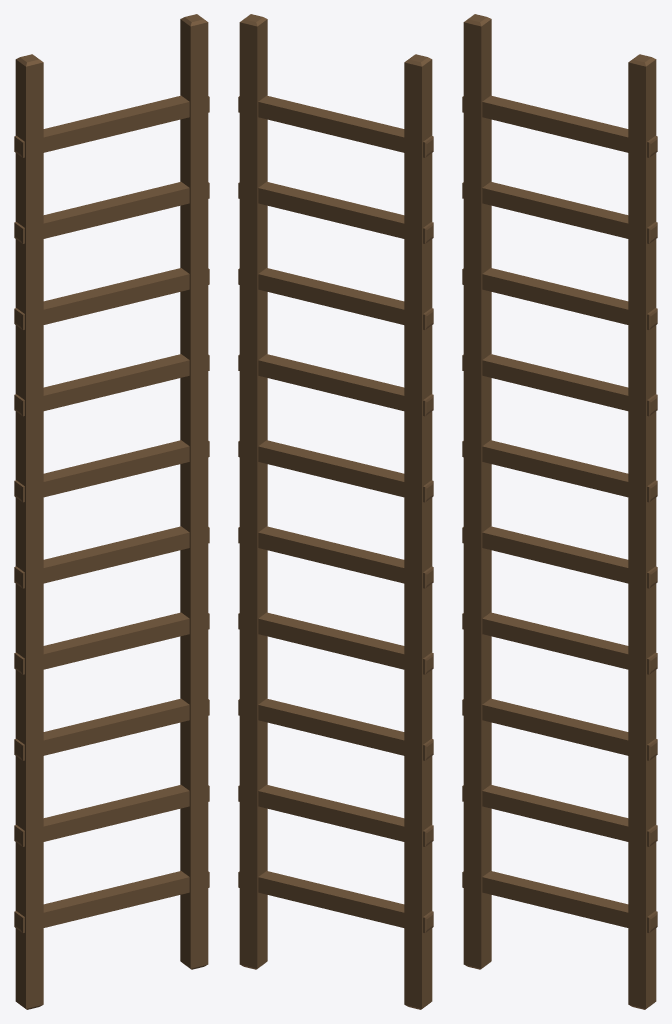
Rendered from ladder.fbx.
3 renders of one model, left to right at view 1: azimuth 30°, elevation 25°; view 2: azimuth 150°, elevation 25°; view 3: azimuth 330°, elevation 25°, orthographic.
Parts seen in each view (by area): view 1: ladder; view 2: ladder; view 3: ladder.
Boxes of the visible parts, bbox=[...] form: ladder: bbox=[14, 14, 209, 1009]; ladder: bbox=[238, 14, 433, 1009]; ladder: bbox=[462, 14, 657, 1009].
Size of the model in its own units: 45.64 by 220 by 4.3.
